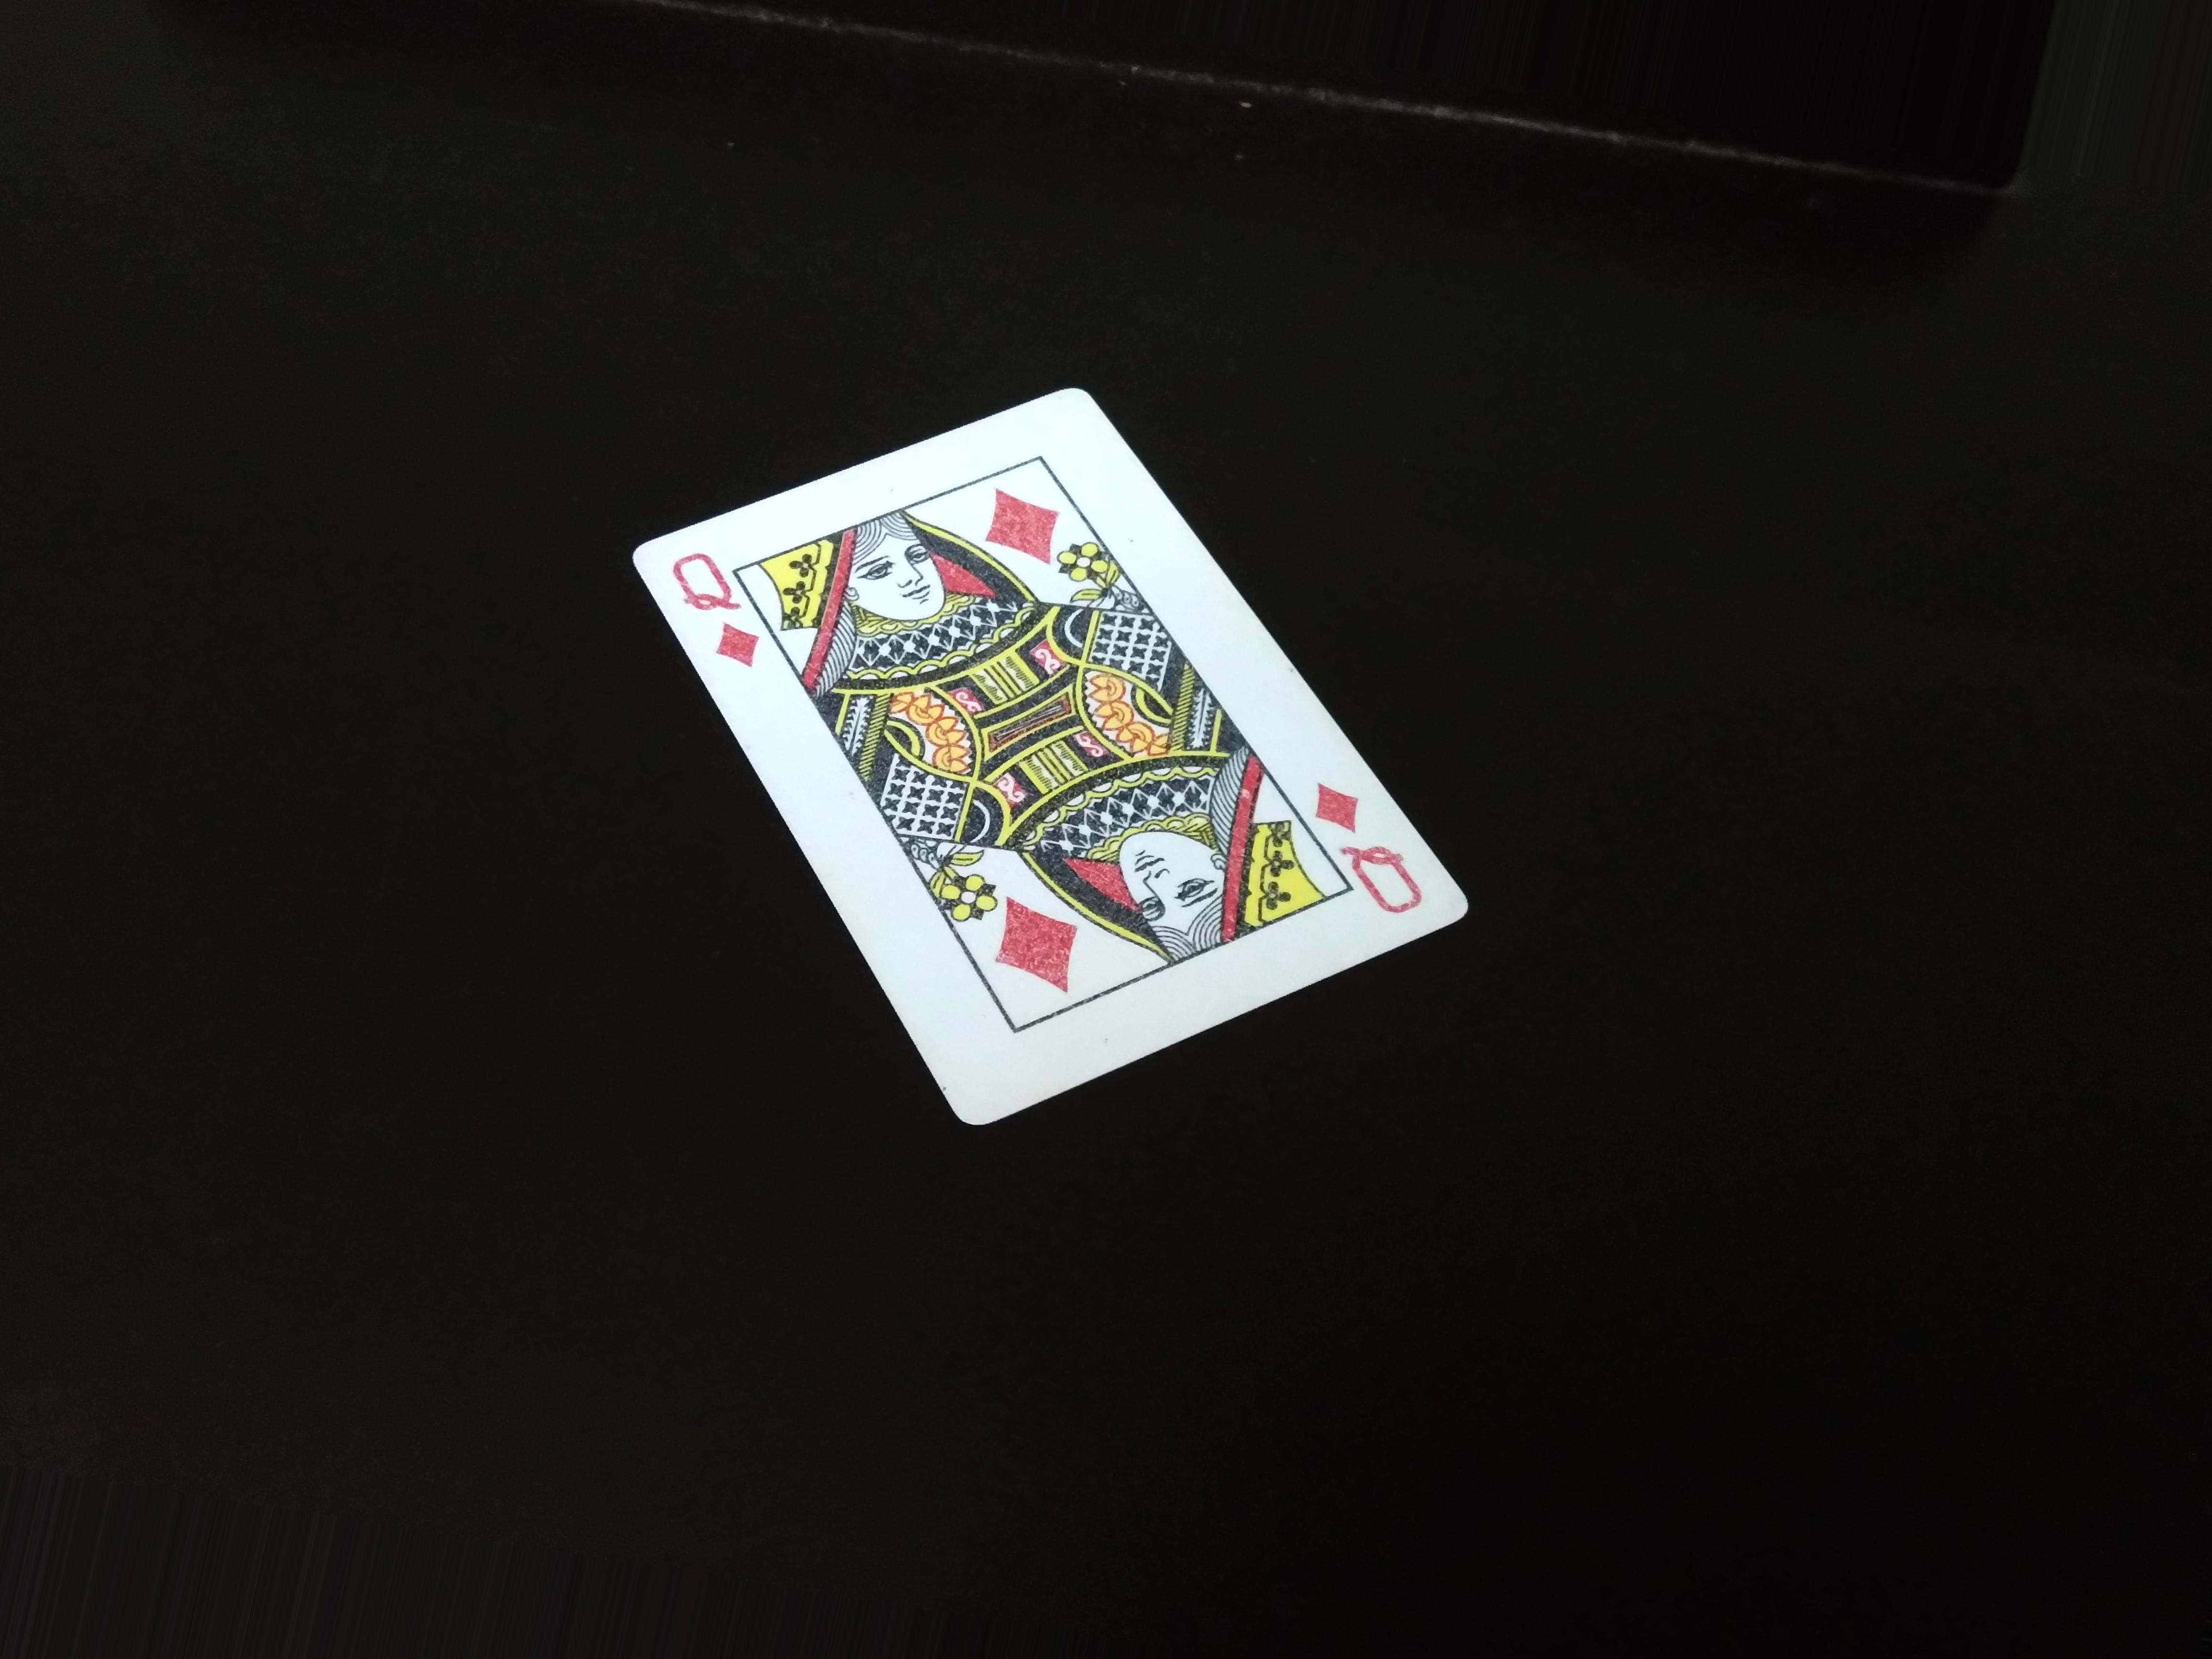QD: (664, 535, 763, 669)
